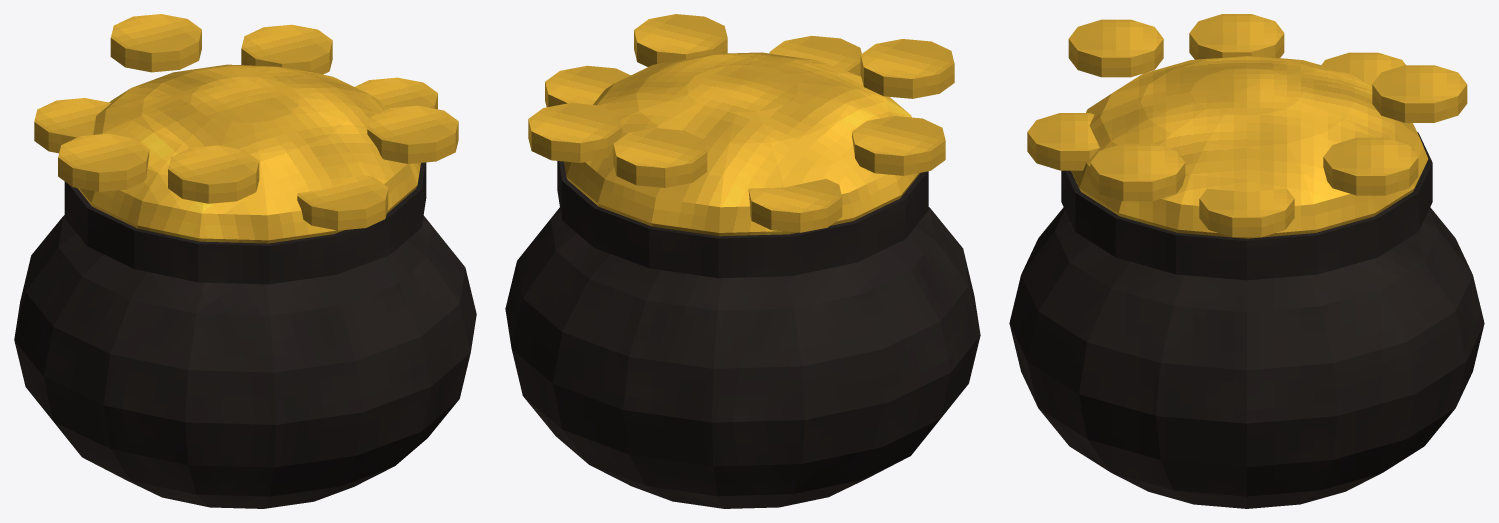
File: S2상점_도박소.fbx
The picture shows the model from 3 angles, left to right: view 1: azimuth 30°, elevation 25°; view 2: azimuth 150°, elevation 25°; view 3: azimuth 270°, elevation 25°; orthographic projection. The views are drawn at different scales.
Parts seen in each view (by area): view 1: Sphere, Sphere.001, Cylinder, Cylinder.006, Cylinder.003, Cylinder.005, Cylinder.008, Cylinder.007, Cylinder.002, Cylinder.004, Cylinder.001; view 2: Sphere, Sphere.001, Cylinder, Cylinder.003, Cylinder.006, Cylinder.005, Cylinder.002, Cylinder.004, Cylinder.008, Cylinder.001, Cylinder.007; view 3: Sphere, Sphere.001, Cylinder, Cylinder.006, Cylinder.008, Cylinder.002, Cylinder.003, Cylinder.001, Cylinder.005, Cylinder.007, Cylinder.004.
Part boxes in pixels (x1,y1,x2,y2): Sphere: (14,215,476,508); Sphere.001: (77,64,420,243); Cylinder: (64,162,426,284); Cylinder.006: (168,145,259,203); Cylinder.003: (110,14,201,72); Cylinder.005: (58,133,149,191); Cylinder.008: (367,105,458,163); Cylinder.007: (297,175,388,230); Cylinder.002: (241,24,332,74); Cylinder.004: (34,98,110,153); Cylinder.001: (355,77,437,109); Sphere: (505,207,980,508); Sphere.001: (564,52,920,236); Cylinder: (557,161,928,278); Cylinder.003: (613,128,707,187); Cylinder.006: (860,39,954,98); Cylinder.005: (852,116,945,175); Cylinder.002: (528,103,622,162); Cylinder.004: (748,178,842,232); Cylinder.008: (634,14,727,66); Cylinder.001: (545,65,630,107); Cylinder.007: (769,35,861,76); Sphere: (1009,207,1484,508); Sphere.001: (1071,56,1428,238); Cylinder: (1061,132,1432,280); Cylinder.006: (1068,19,1163,77); Cylinder.008: (1090,143,1185,201); Cylinder.002: (1323,137,1418,195); Cylinder.003: (1372,65,1467,122); Cylinder.001: (1199,188,1294,237); Cylinder.005: (1189,14,1284,59); Cylinder.007: (1027,113,1099,170); Cylinder.004: (1321,52,1405,86).
Size of the model in its own units: 1.1 by 1.01 by 1.1.
